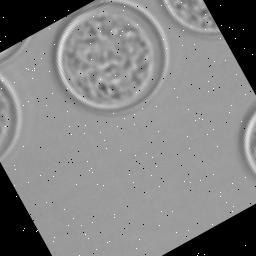picoshell: (56, 0, 169, 108), (0, 72, 23, 158), (165, 0, 221, 32), (243, 109, 256, 173), (0, 41, 20, 58)
